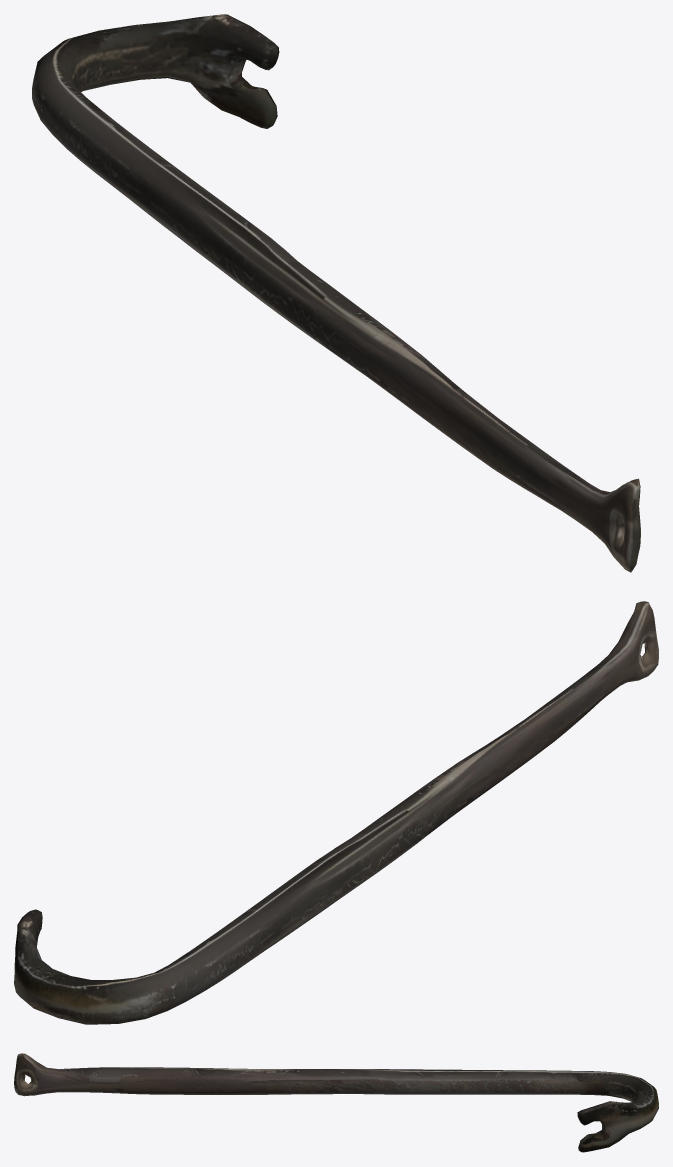
Rendered from crowbar.fbx.
3 renders of one model, top to bottom at view 1: azimuth 30°, elevation 25°; view 2: azimuth 150°, elevation 25°; view 3: azimuth 270°, elevation 25°, orthographic. The views are drawn at different scales.
Visible parts, largest first — view 1: tripo_node_af6e3338; view 2: tripo_node_af6e3338; view 3: tripo_node_af6e3338.
Part boxes in pixels (x1,y1,x2,y2): tripo_node_af6e3338: [32, 14, 640, 572]; tripo_node_af6e3338: [14, 601, 658, 1024]; tripo_node_af6e3338: [14, 1053, 658, 1152].
Size of the model in its own units: 20.22 by 8.88 by 99.88.
1 material, 1 textured.
